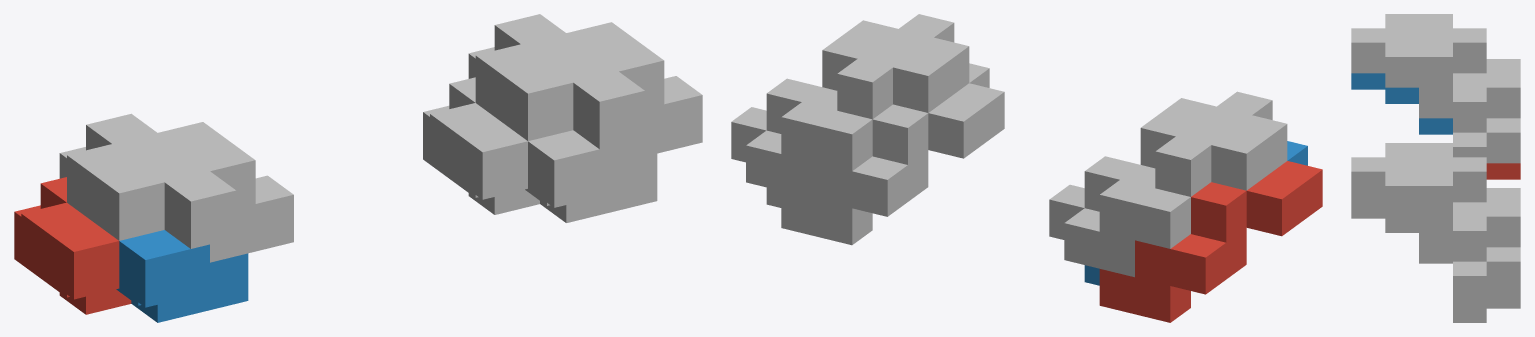
The model's file is tiling.obj.
3 views of the same model, side by side, from view 1: azimuth 30°, elevation 25°; view 2: azimuth 150°, elevation 25°; view 3: azimuth 270°, elevation 25° (orthographic). The views are drawn at different scales.
Parts seen in each view (by area): view 1: copy_1_domain_8, copy_1_domain_4, copy_1_domain_7, copy_1_domain_3, copy_1_domain_1, copy_1_domain_5, copy_1_domain_6, copy_1_domain_2; view 2: copy_1_domain_7, copy_1_domain_3, copy_1_domain_5, copy_1_domain_1, copy_1_domain_4, copy_1_domain_8, copy_1_domain_6, copy_1_domain_2; view 3: copy_1_domain_8, copy_1_domain_4, copy_1_domain_3, copy_1_domain_7, copy_1_domain_6, copy_1_domain_2, copy_1_domain_1, copy_1_domain_5.
Part boxes in pixels (x1=…): copy_1_domain_8: x1=547, y1=22, x2=702, y2=162; copy_1_domain_4: x1=139, y1=122, x2=293, y2=262; copy_1_domain_7: x1=468, y1=14, x2=591, y2=140; copy_1_domain_3: x1=59, y1=113, x2=183, y2=240; copy_1_domain_1: x1=14, y1=177, x2=131, y2=314; copy_1_domain_5: x1=423, y1=77, x2=539, y2=214; copy_1_domain_6: x1=525, y1=130, x2=657, y2=222; copy_1_domain_2: x1=116, y1=230, x2=248, y2=322; copy_1_domain_7: x1=746, y1=37, x2=969, y2=199; copy_1_domain_3: x1=1064, y1=115, x2=1287, y2=277; copy_1_domain_5: x1=781, y1=83, x2=1004, y2=245; copy_1_domain_1: x1=1099, y1=161, x2=1322, y2=322; copy_1_domain_4: x1=1049, y1=91, x2=1272, y2=239; copy_1_domain_8: x1=731, y1=14, x2=954, y2=162; copy_1_domain_6: x1=766, y1=63, x2=989, y2=207; copy_1_domain_2: x1=1084, y1=141, x2=1307, y2=285; copy_1_domain_8: x1=1351, y1=157, x2=1486, y2=306; copy_1_domain_4: x1=1351, y1=28, x2=1486, y2=157; copy_1_domain_3: x1=1385, y1=14, x2=1520, y2=163; copy_1_domain_7: x1=1385, y1=143, x2=1520, y2=292; copy_1_domain_6: x1=1351, y1=202, x2=1486, y2=322; copy_1_domain_2: x1=1351, y1=73, x2=1452, y2=134; copy_1_domain_1: x1=1486, y1=163, x2=1520, y2=179; copy_1_domain_5: x1=1486, y1=292, x2=1520, y2=308.
Size of the model in its own units: 15 by 4 by 5.
